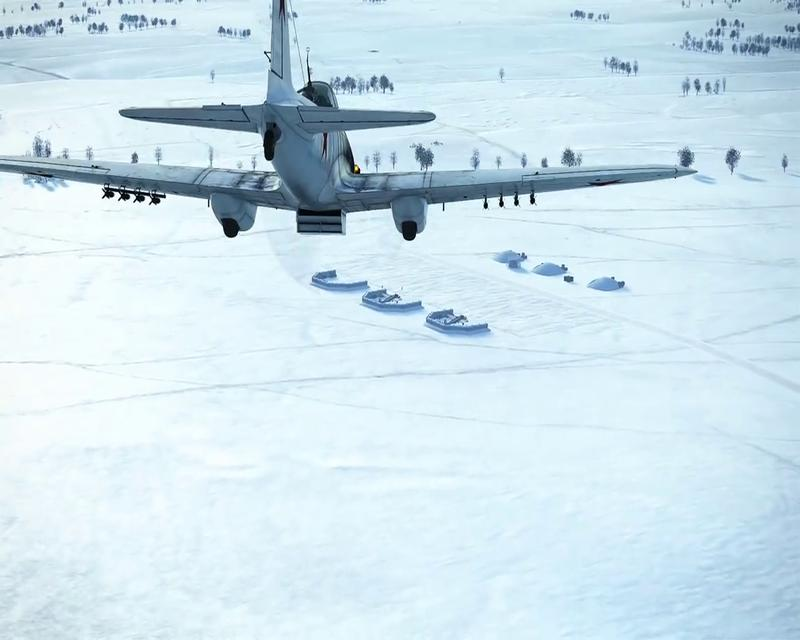UAV: (0, 0, 697, 242)
